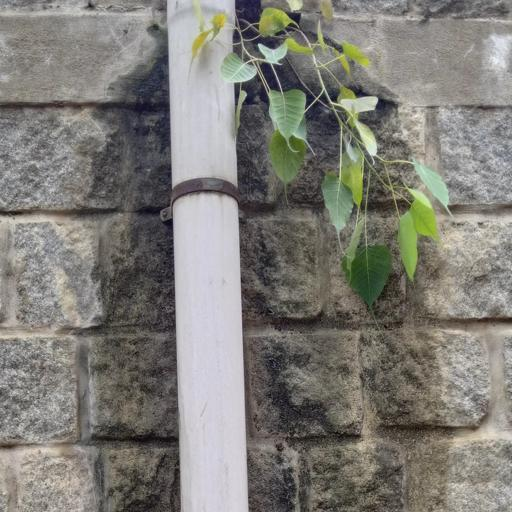algae: (105, 25, 462, 512)
